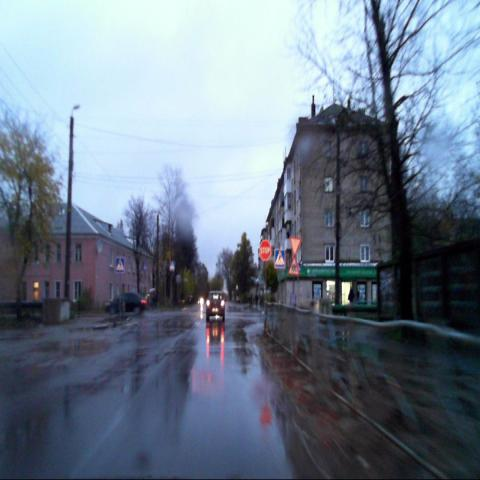2_5: (259, 239, 271, 261)
